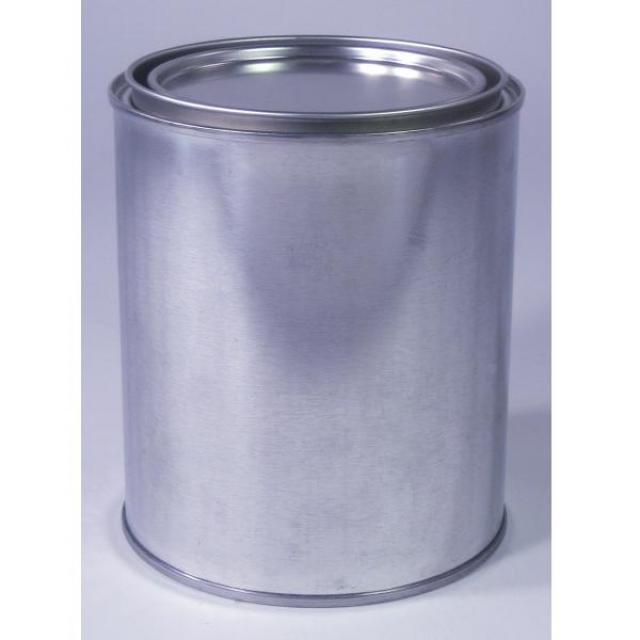metel: (111, 49, 497, 595)
